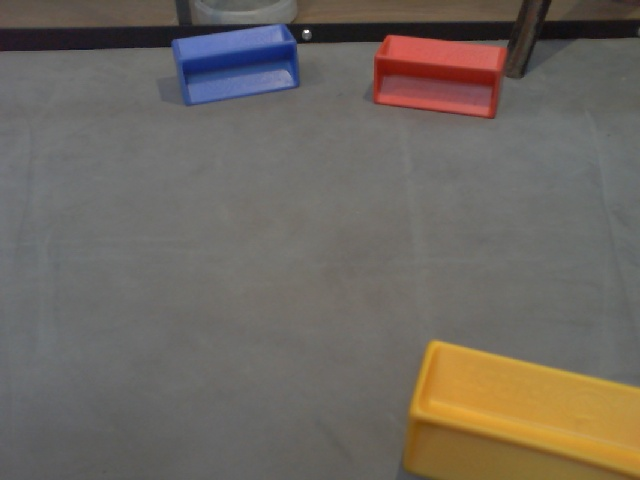BlueSample: (170, 23, 302, 107)
RedSample: (371, 31, 508, 125)
YellowSample: (395, 336, 639, 480)
